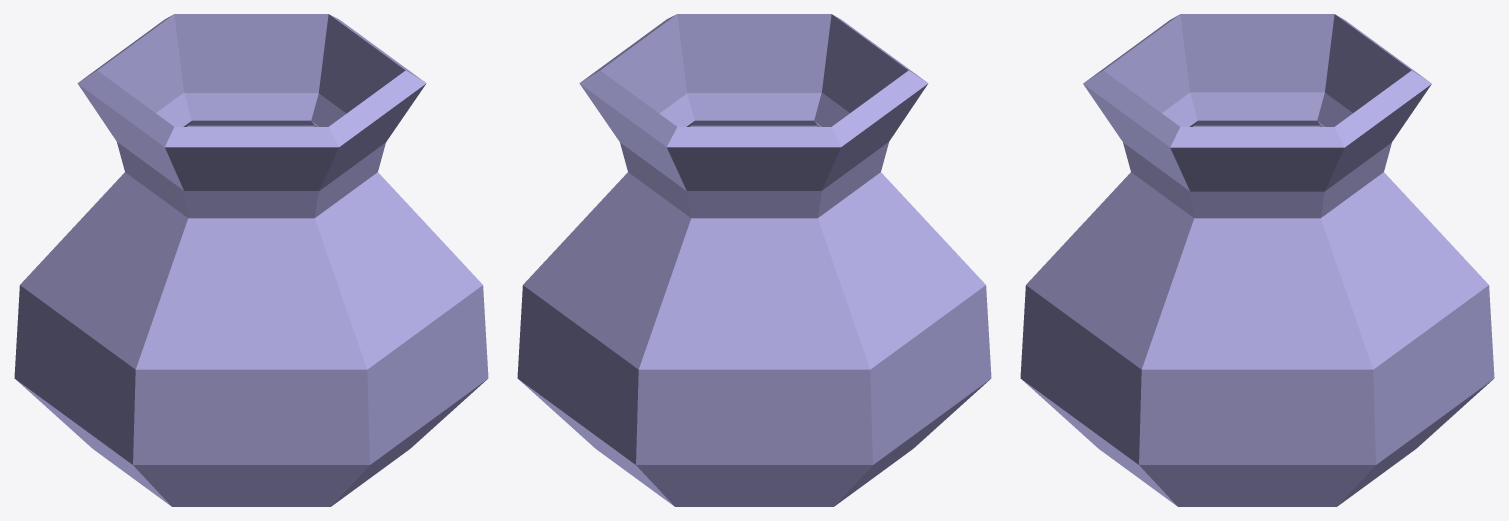
File: Vase.fbx
3 views of the same model, side by side, from view 1: azimuth 30°, elevation 25°; view 2: azimuth 150°, elevation 25°; view 3: azimuth 270°, elevation 25° (orthographic).
Visible parts, largest first — view 1: Vase; view 2: Vase; view 3: Vase.
Part boxes in pixels (x1,y1,x2,y2): Vase: (14, 14, 488, 506); Vase: (517, 14, 991, 506); Vase: (1020, 14, 1494, 506).
Bounding box in the file's own units: 76.96 × 84.32 × 88.87.
